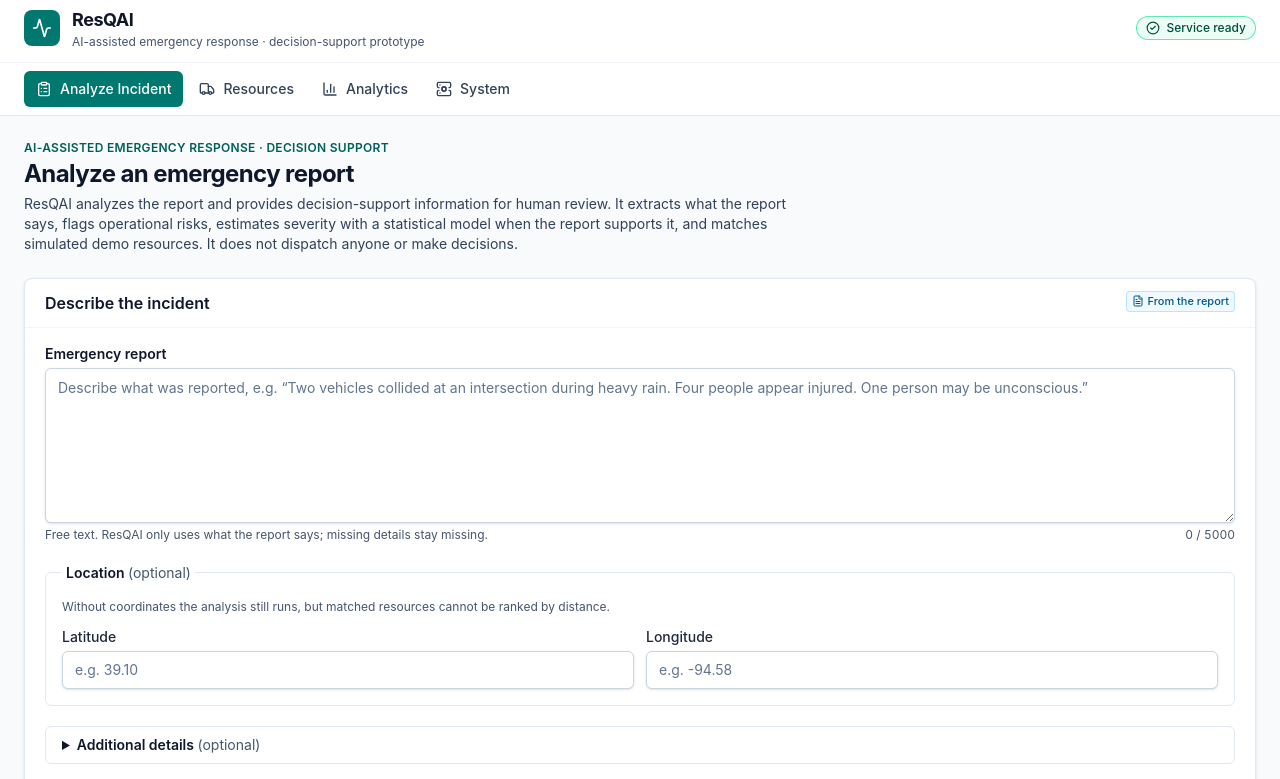
Test: Navigation and layout › navigates between pages and keeps the analysis when returning
Type "Two cars collided at an intersection during heavy rain. One person may be unconscious." into the text box labelled "Emergency report".
click(640, 445); type("Two cars collided at an intersection during heavy rain. One person may be unconscious.")  # box [45,368,1235,522]
(page scrolled)
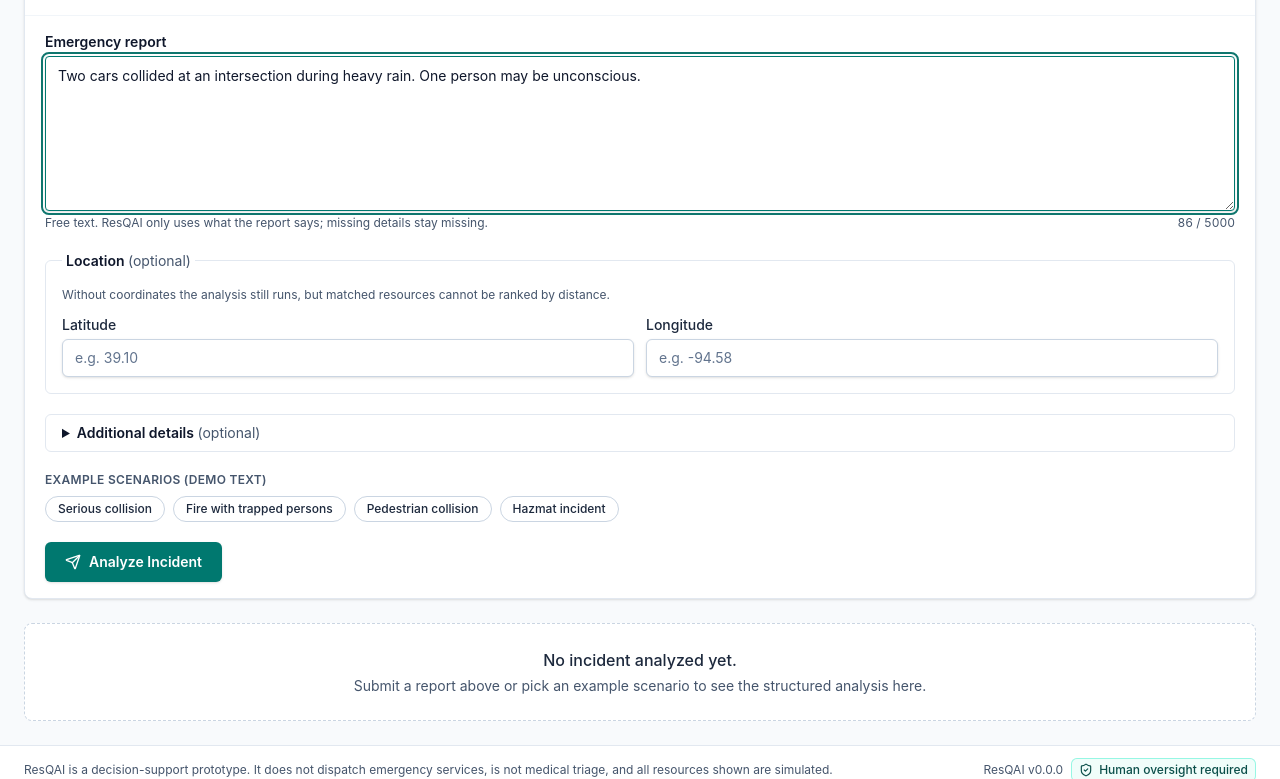
Click the button "Analyze Incident".
click(134, 562)  # box [45,542,222,582]
(page scrolled)
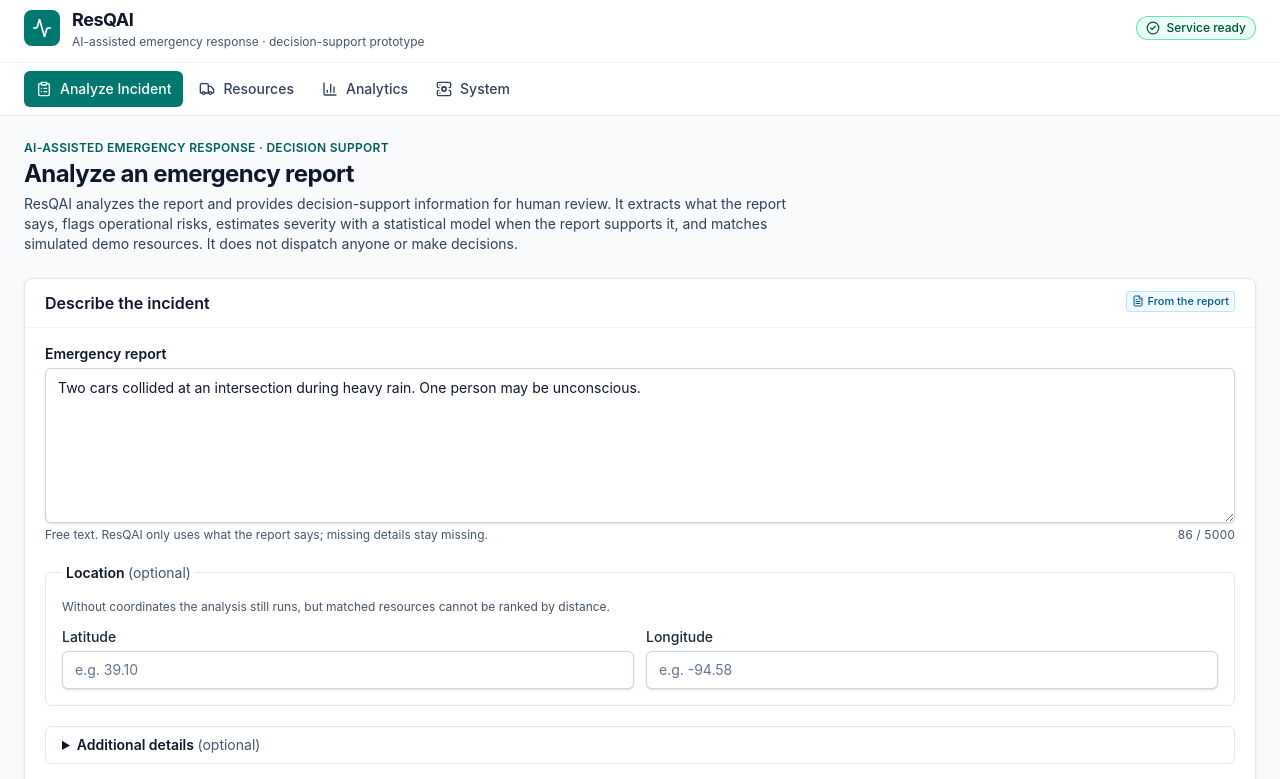
Click the link "System".
click(473, 88)  # box [436,80,510,97]
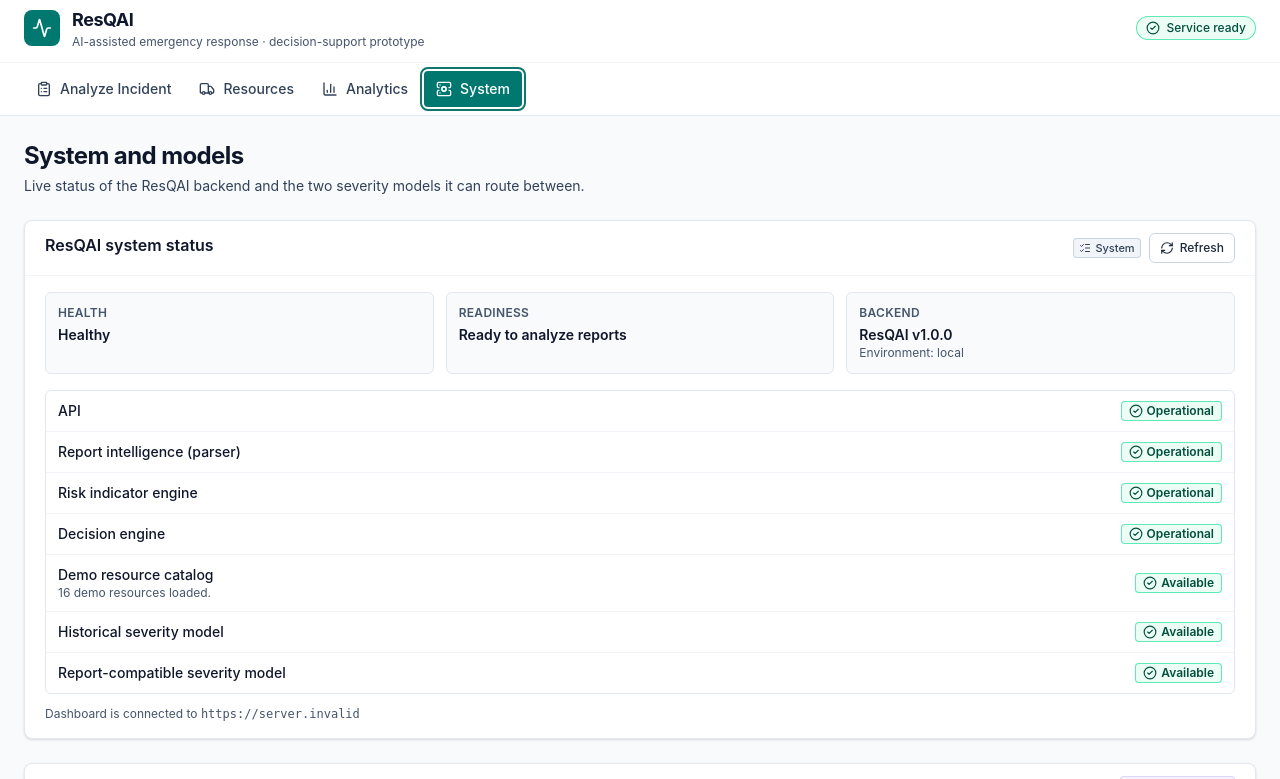
expect the heading "System and models" is shown: met, box [24,141,244,170]
Click the link "Analyze Incident".
click(104, 88)  # box [36,80,171,97]
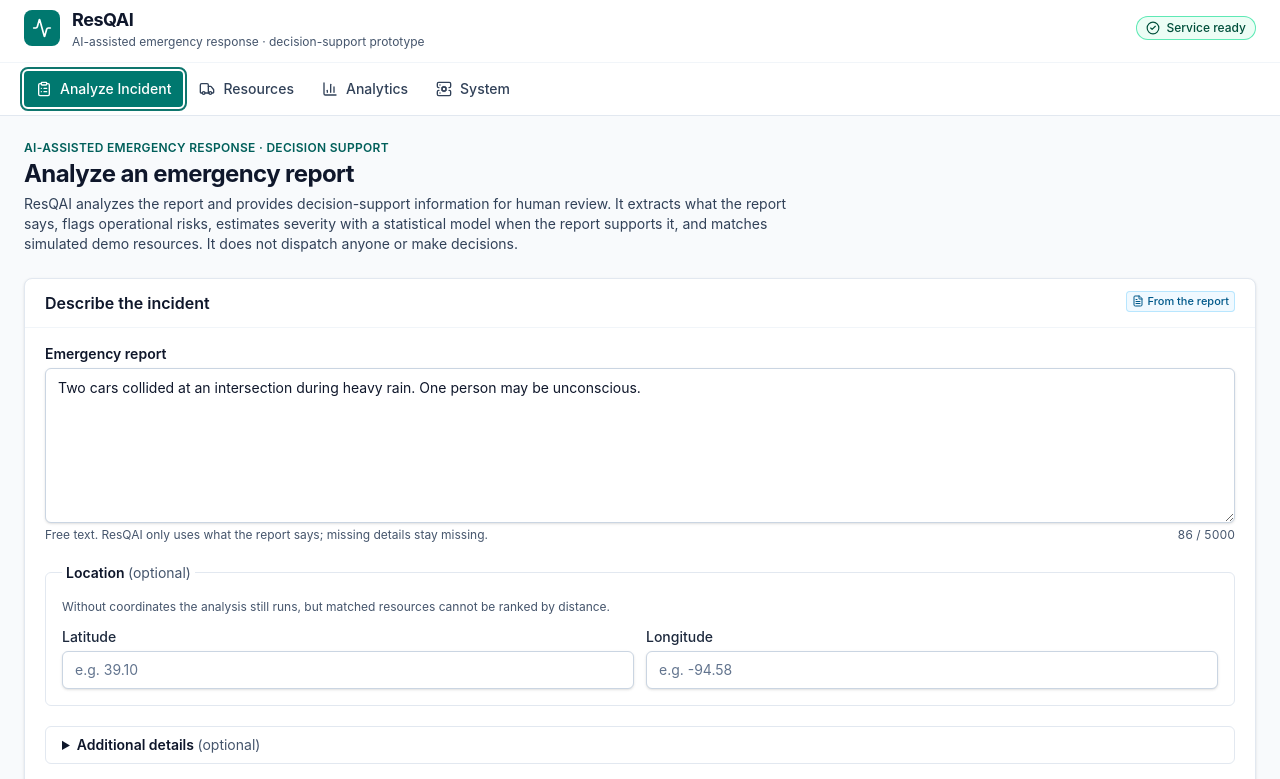
expect the text box labelled "Emergency report" holds "Two cars collided at an intersection during heavy rain. One person may be unconscious.": met, box [45,368,1235,522]
